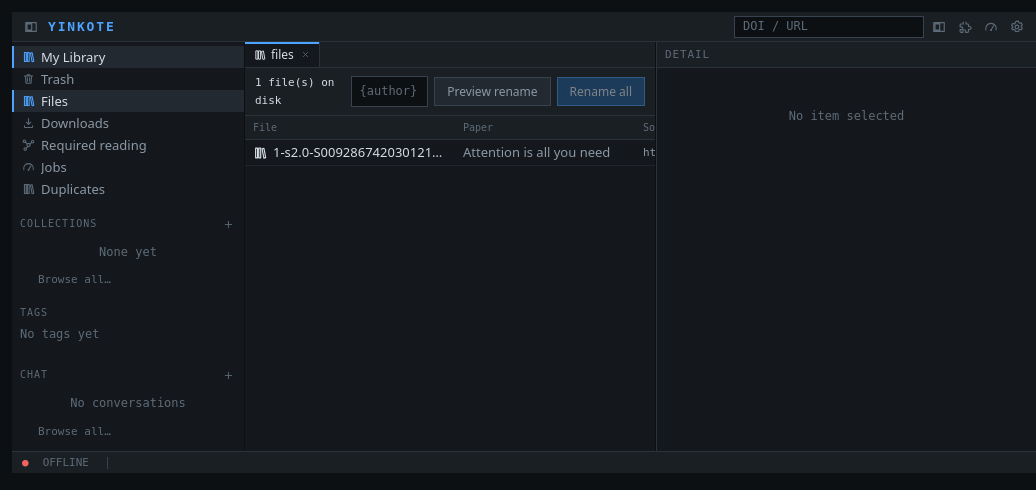
Test: the file browser › reports the whole count even though it only shows a sample
Click the button "Preview rename": (492, 92) [434,77,551,106]
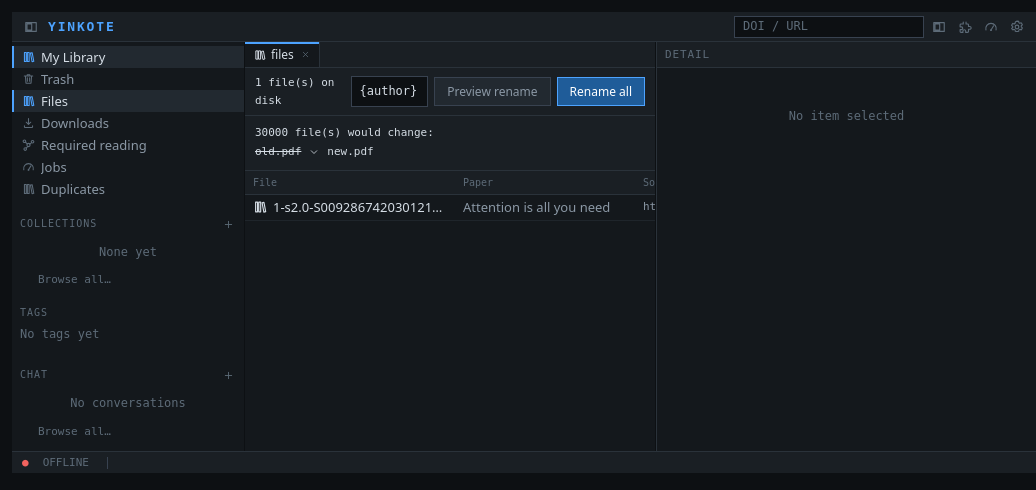
Expected: the text "30000" is shown, [255,126,434,139]
